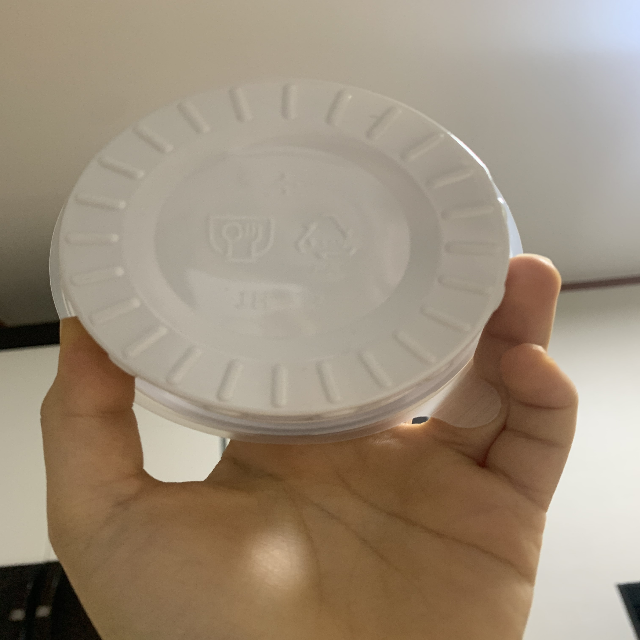ps: (292, 213, 363, 283)
